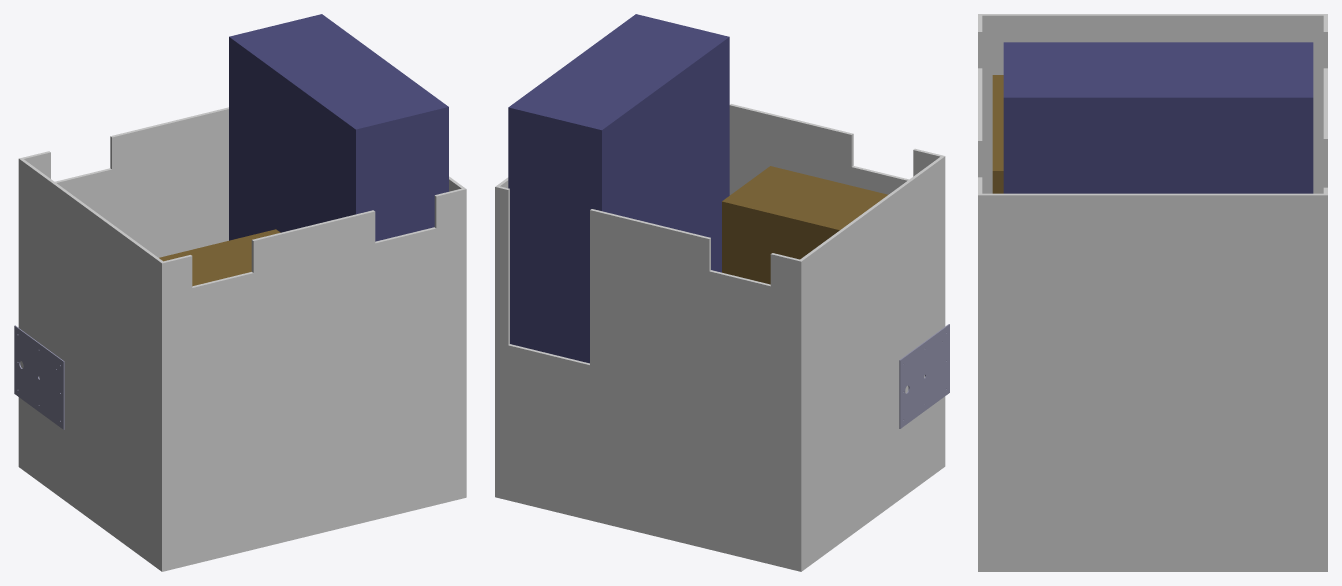
The model's file is assembly-exploded.glb.
3 renders of one model, left to right at view 1: azimuth 30°, elevation 25°; view 2: azimuth 150°, elevation 25°; view 3: azimuth 270°, elevation 25°, orthographic. The views are drawn at different scales.
Visible parts, largest first — view 1: container_shell, GRD-SWG-001, ARC-PLT-CG, GRD-XFM-001; view 2: container_shell, GRD-SWG-001, GRD-XFM-001, ARC-PLT-CG; view 3: container_shell, GRD-SWG-001, GRD-XFM-001.
Boxes of the visible parts, x1,y1,x2,y2 form: container_shell: (18, 107, 466, 571); GRD-SWG-001: (229, 14, 448, 241); ARC-PLT-CG: (14, 325, 64, 429); GRD-XFM-001: (159, 229, 280, 286); container_shell: (495, 104, 945, 571); GRD-SWG-001: (508, 14, 729, 363); GRD-XFM-001: (722, 166, 887, 284); ARC-PLT-CG: (899, 324, 949, 428); container_shell: (978, 14, 1327, 571); GRD-SWG-001: (1003, 42, 1313, 193); GRD-XFM-001: (992, 75, 1003, 193).
Bounding box in the file's own units: 3496 × 3613 × 2438.
